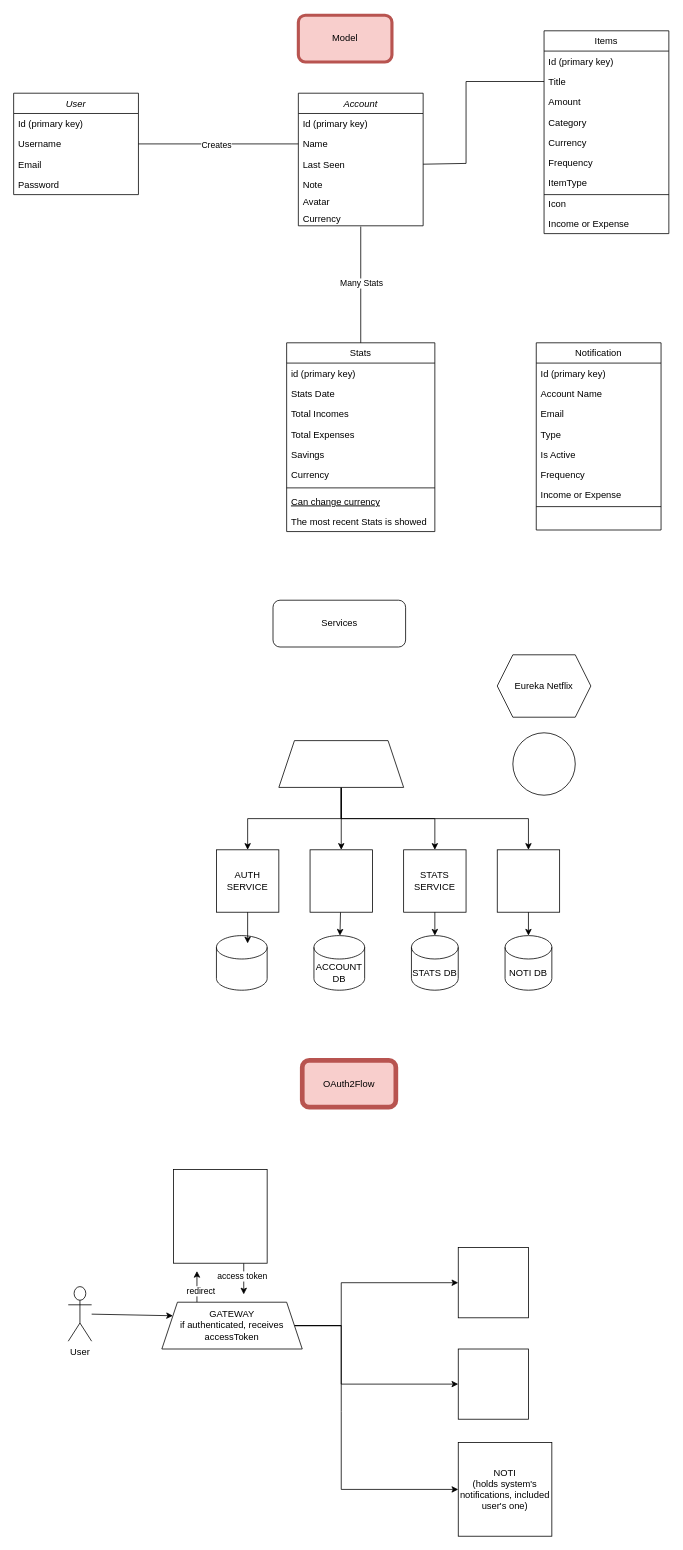
This 683x1550 diagram has some shape labels left out. Here are the shapes that lost their labels. From the top down, the centre of each, then its label:
At (341,763): "GATEWAY (Spring Cloud Gateway)".
At (543,763): "Config Server".
At (340,880): "ACCOUNT SERVICE".
At (528,880): "NOTI SERVICE".
At (241,962): "AUTH DB".
At (220,1216): "AUTH SERVICE *authenticates user*".
At (492,1282): "ACCOUNT (holds user's incomes and expenses)".
At (492,1383): "STATS (holds user's account stats)".
